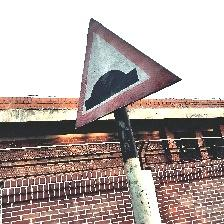Speed-breaker: (75, 18, 182, 128)
